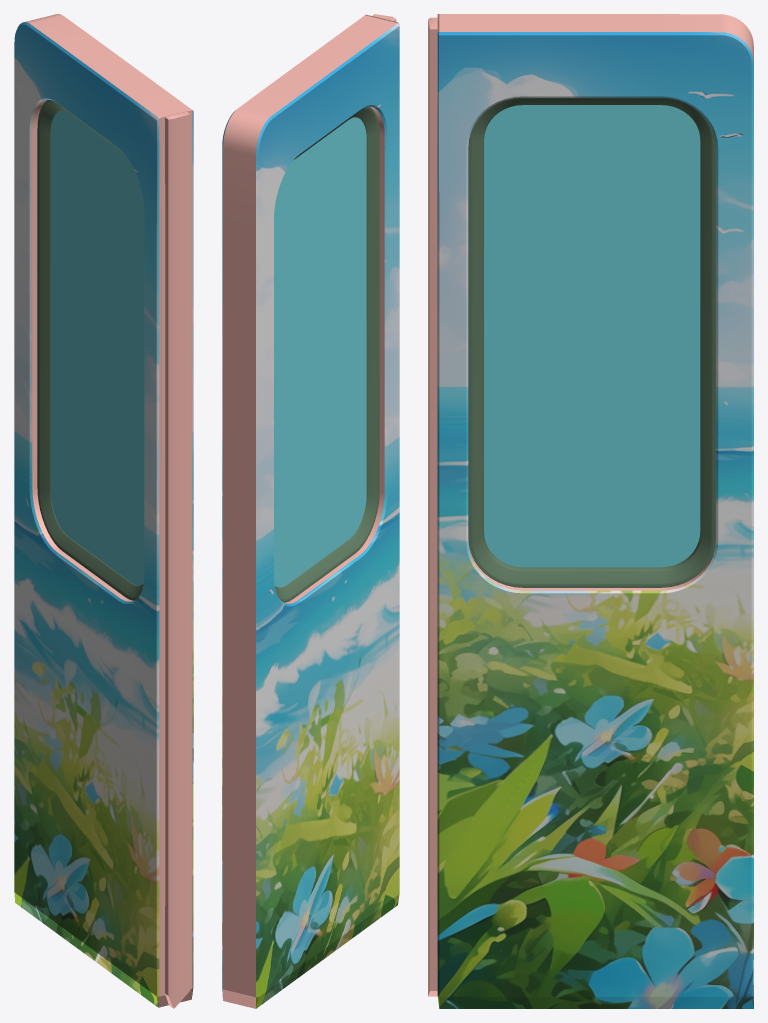
File: g_subway_sideoors_r_mod.fbx
3 views of the same model, side by side, from view 1: azimuth 30°, elevation 25°; view 2: azimuth 150°, elevation 25°; view 3: azimuth 270°, elevation 25° (orthographic). The views are drawn at different scales.
Visible parts, largest first — view 1: g_subway_sideoors_r_mod; view 2: g_subway_sideoors_r_mod; view 3: g_subway_sideoors_r_mod.
Part boxes in pixels (x1,y1,x2,y2): g_subway_sideoors_r_mod: [14, 14, 193, 1008]; g_subway_sideoors_r_mod: [222, 14, 399, 1008]; g_subway_sideoors_r_mod: [428, 14, 753, 1008].
Bounding box in the file's own units: 7.05 × 49.04 × 162.
